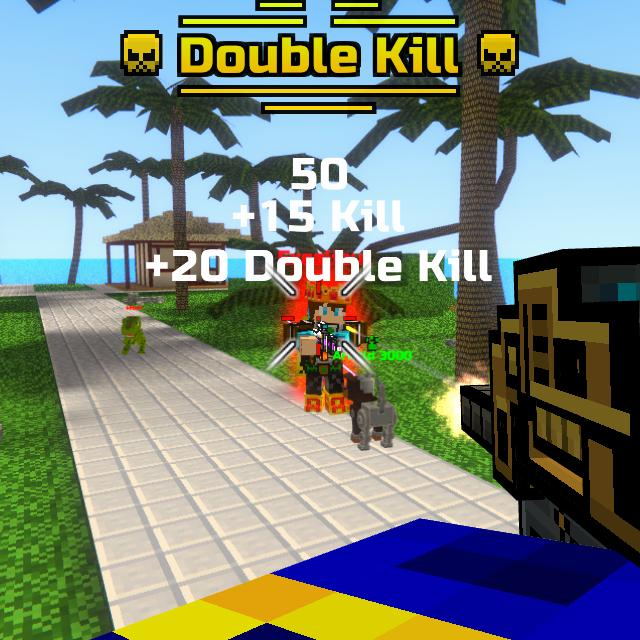Enemy: (285, 288, 368, 412)
